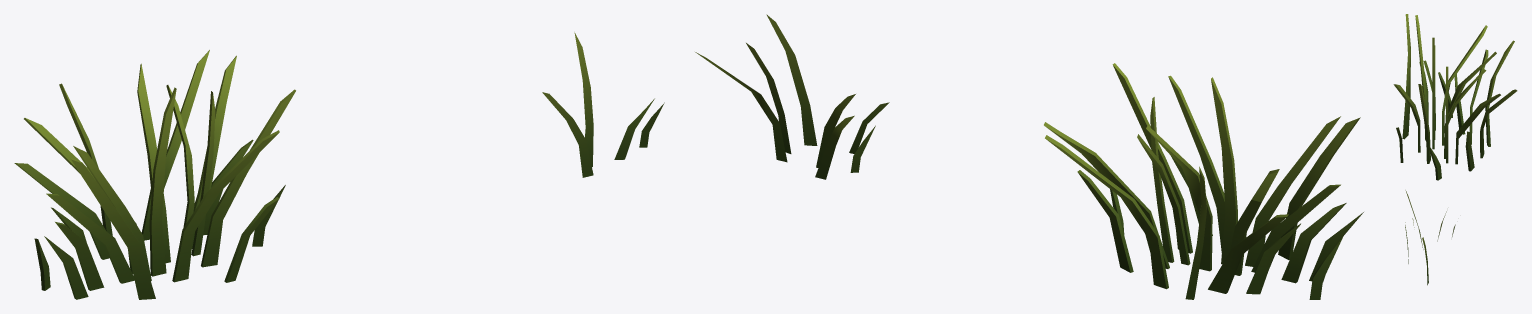
Rendered from Grass.glb.
3 views of the same model, side by side, from view 1: azimuth 30°, elevation 25°; view 2: azimuth 150°, elevation 25°; view 3: azimuth 270°, elevation 25° (orthographic). The views are drawn at different scales.
Visible parts, largest first — view 1: Grass_Large_Extruded, Grass_Small; view 2: Grass_Large_Extruded, Grass_Small; view 3: Grass_Large_Extruded, Grass_Small.
Boxes of the visible parts, bbox=[...] form: Grass_Large_Extruded: bbox=[14, 50, 295, 299]; Grass_Small: bbox=[542, 32, 664, 177]; Grass_Large_Extruded: bbox=[1044, 63, 1363, 299]; Grass_Small: bbox=[695, 14, 889, 179]; Grass_Large_Extruded: bbox=[1393, 14, 1517, 180]; Grass_Small: bbox=[1405, 190, 1455, 285].
Bounding box in the file's own units: 1.84 × 0.5112 × 0.4973.
Materials: 1 (1 with a texture image).
